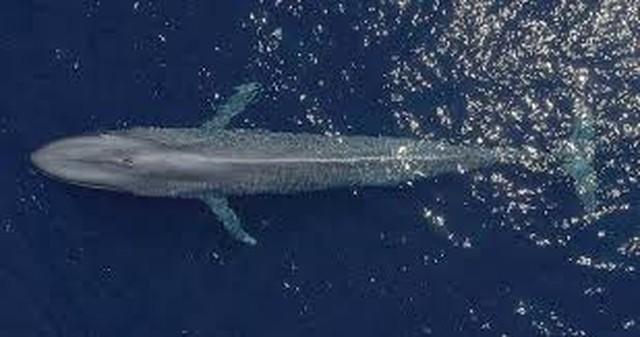whale: (24, 77, 610, 253)
